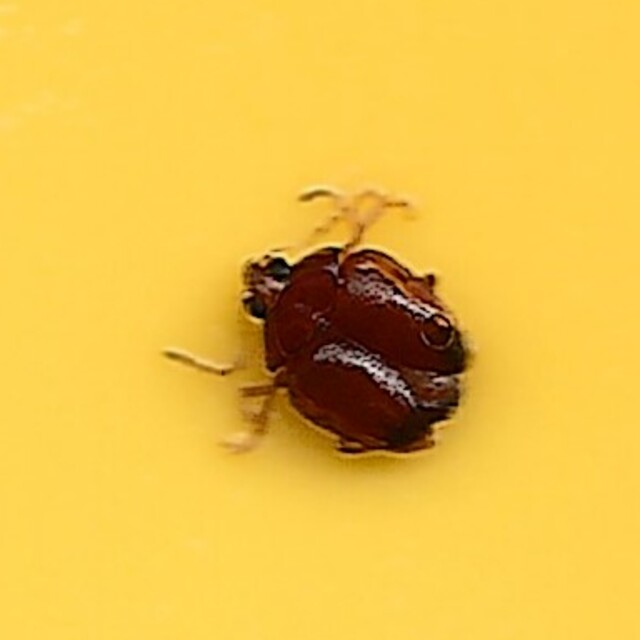Coleoptera: (167, 180, 473, 460)
